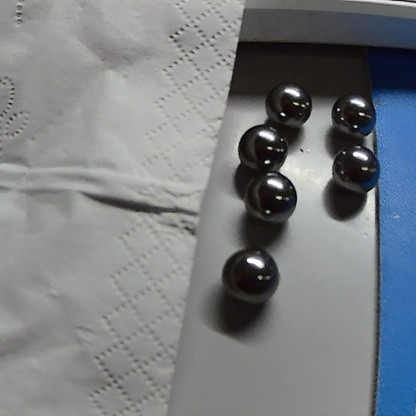ironball: (212, 240, 278, 308), (328, 90, 382, 141), (321, 145, 383, 188), (232, 123, 282, 174), (244, 171, 294, 217), (264, 77, 310, 127)
